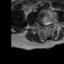CCS_severe_stenosis: (46, 20, 48, 28)
LFS_normal: (50, 19, 53, 26)
LLS_normal: (48, 19, 50, 27)
RFS_stenosis: (41, 20, 43, 27)
RLS_normal: (43, 20, 46, 27)
